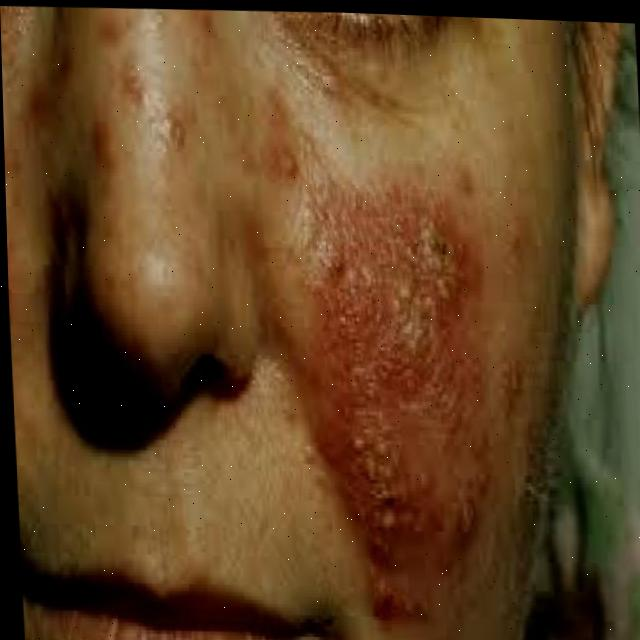Rosacea: (305, 183, 515, 619)
